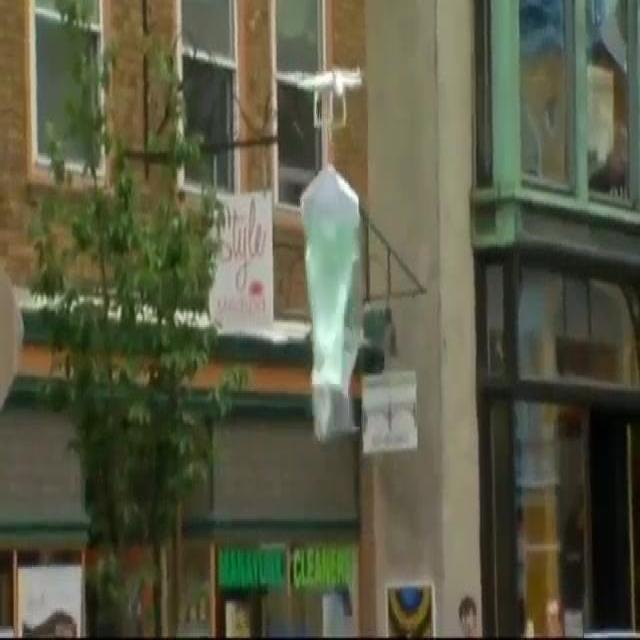drone: (289, 64, 365, 134)
